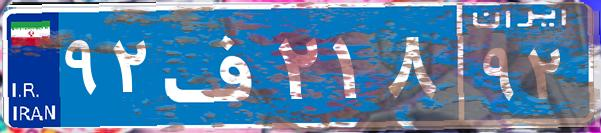1: (330, 28, 385, 110)
2: (273, 28, 330, 110), (110, 28, 158, 105), (525, 38, 570, 115)
8: (385, 28, 445, 110)
9: (57, 26, 110, 107), (475, 38, 525, 113)
ف: (158, 15, 273, 115)
